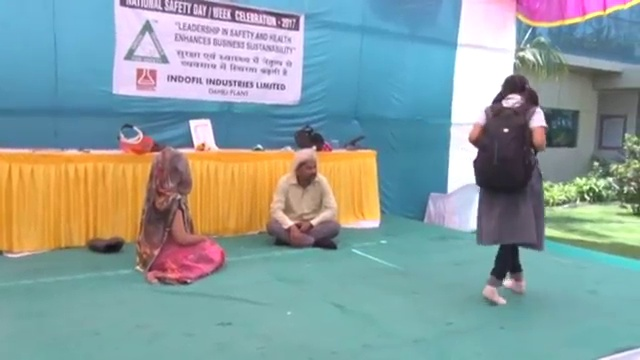helmet_off: (149, 148, 193, 196), (498, 74, 533, 105), (291, 148, 318, 183)
person: (466, 73, 551, 304), (133, 147, 227, 287), (263, 148, 342, 251)
